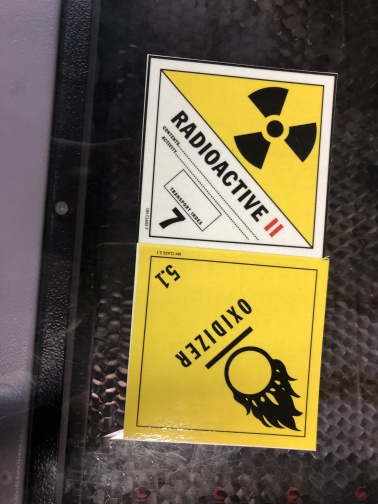Oxidizer: (124, 242, 330, 451)
Radioactive: (138, 52, 338, 259)
